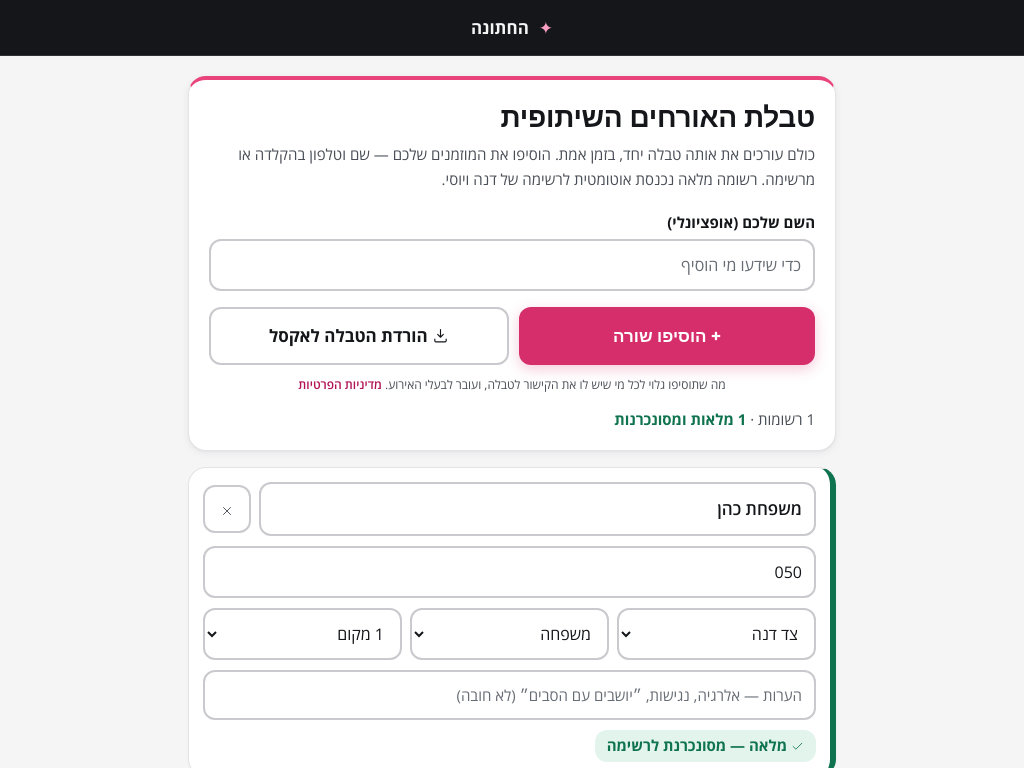
Test case: shared table › a new row has no side until one is chosen, and says it is missing (89 #8)
This screenshot has width=1024, height=768.
Click the button "+ הוסיפו שורה". click: (667, 336)
box: [519,307,815,365]
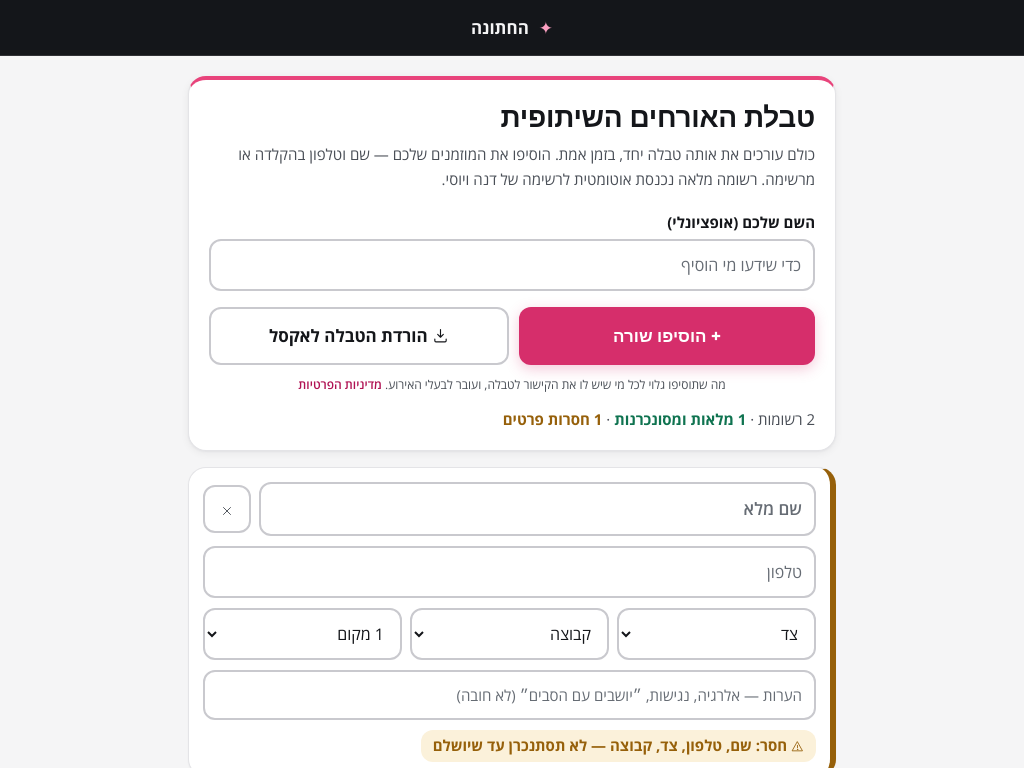
Now the dropdown named "צד" shows "צד", box [617,608,816,660]
Now the text "חסר: שם, טלפון, צד, קבוצה — לא תסתנכרן עד שיושלם" is shown, box [421,730,816,762]
